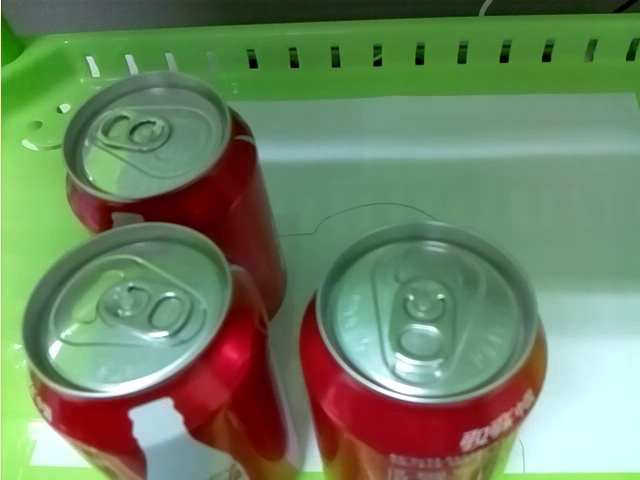cocacola: (14, 216, 300, 480), (304, 222, 549, 480), (57, 68, 290, 318)
